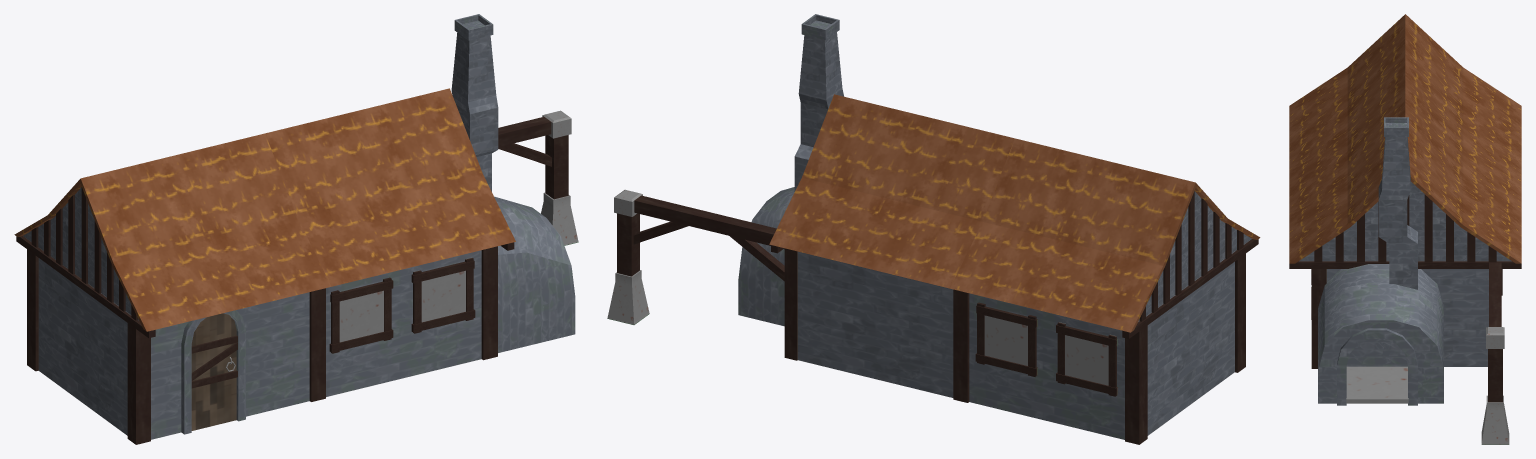
The model's file is SM_Forge.fbx.
The picture shows the model from 3 angles, left to right: view 1: azimuth 30°, elevation 25°; view 2: azimuth 150°, elevation 25°; view 3: azimuth 270°, elevation 25°; orthographic projection. The views are drawn at different scales.
Parts seen in each view (by area): view 1: polySurface211; view 2: polySurface211; view 3: polySurface211.
Part boxes in pixels (left/top/right/bottom): polySurface211: left=14, top=14, right=578, bottom=444; polySurface211: left=607, top=14, right=1260, bottom=444; polySurface211: left=1289, top=14, right=1521, bottom=444.
Bounding box in the file's own units: 777 × 402 × 330.
